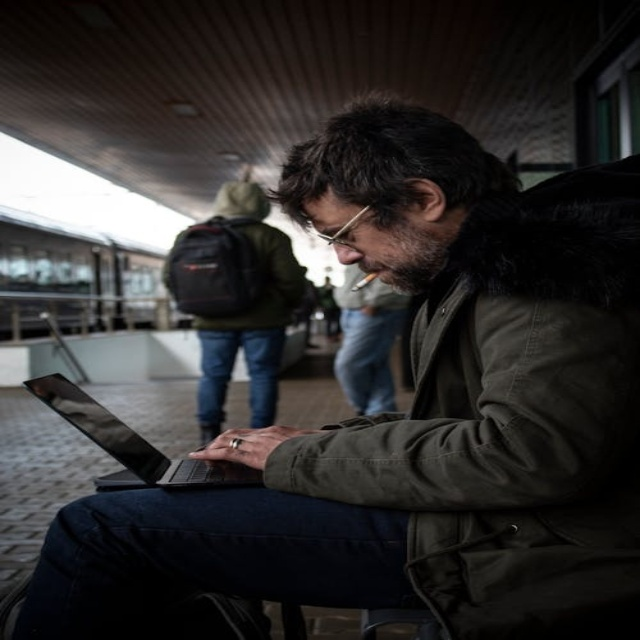Gafas: (307, 182, 393, 247)
Sin_guantes: (186, 425, 322, 470)
Sin_mascara: (352, 260, 417, 298)
